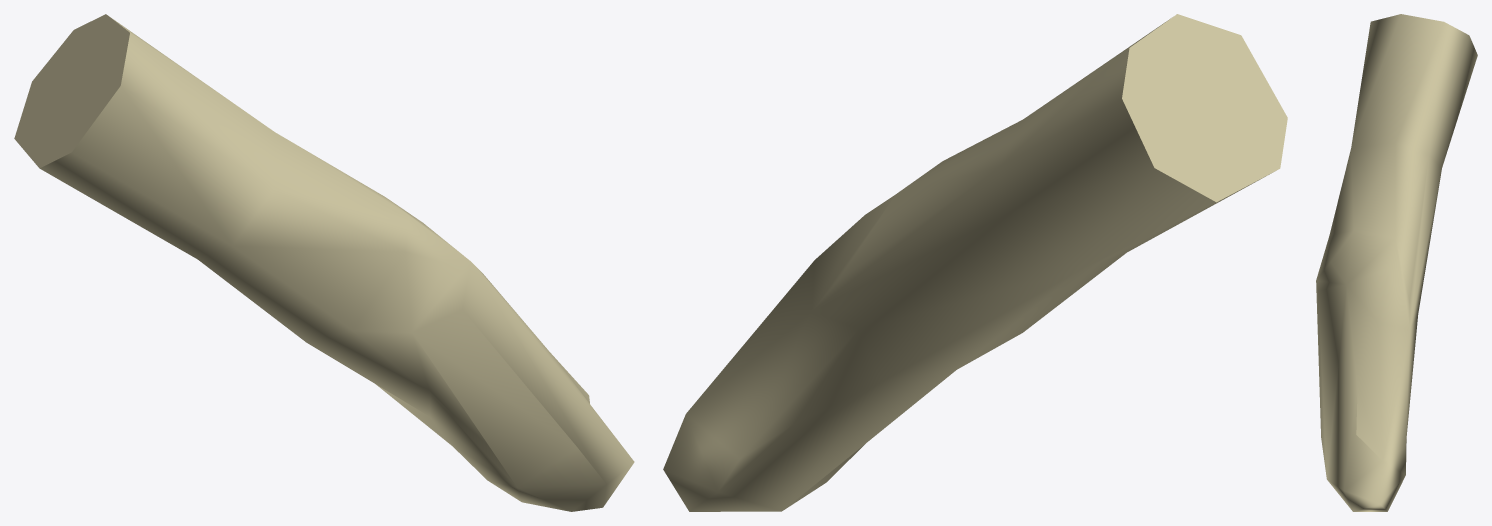
The model's file is Nao6_Right_Hand_Right_Finger.obj.
3 views of the same model, side by side, from view 1: azimuth 30°, elevation 25°; view 2: azimuth 150°, elevation 25°; view 3: azimuth 270°, elevation 25° (orthographic). The views are drawn at different scales.
Visible parts, largest first — view 1: Nao6_Right_Hand_Right_Finger; view 2: Nao6_Right_Hand_Right_Finger; view 3: Nao6_Right_Hand_Right_Finger.
Boxes of the visible parts, <box> form: Nao6_Right_Hand_Right_Finger: <box>14,14,634,511</box>; Nao6_Right_Hand_Right_Finger: <box>663,14,1287,511</box>; Nao6_Right_Hand_Right_Finger: <box>1316,14,1477,511</box>.
Size of the model in its own units: 0.2338 by 0.2216 by 0.0903.
